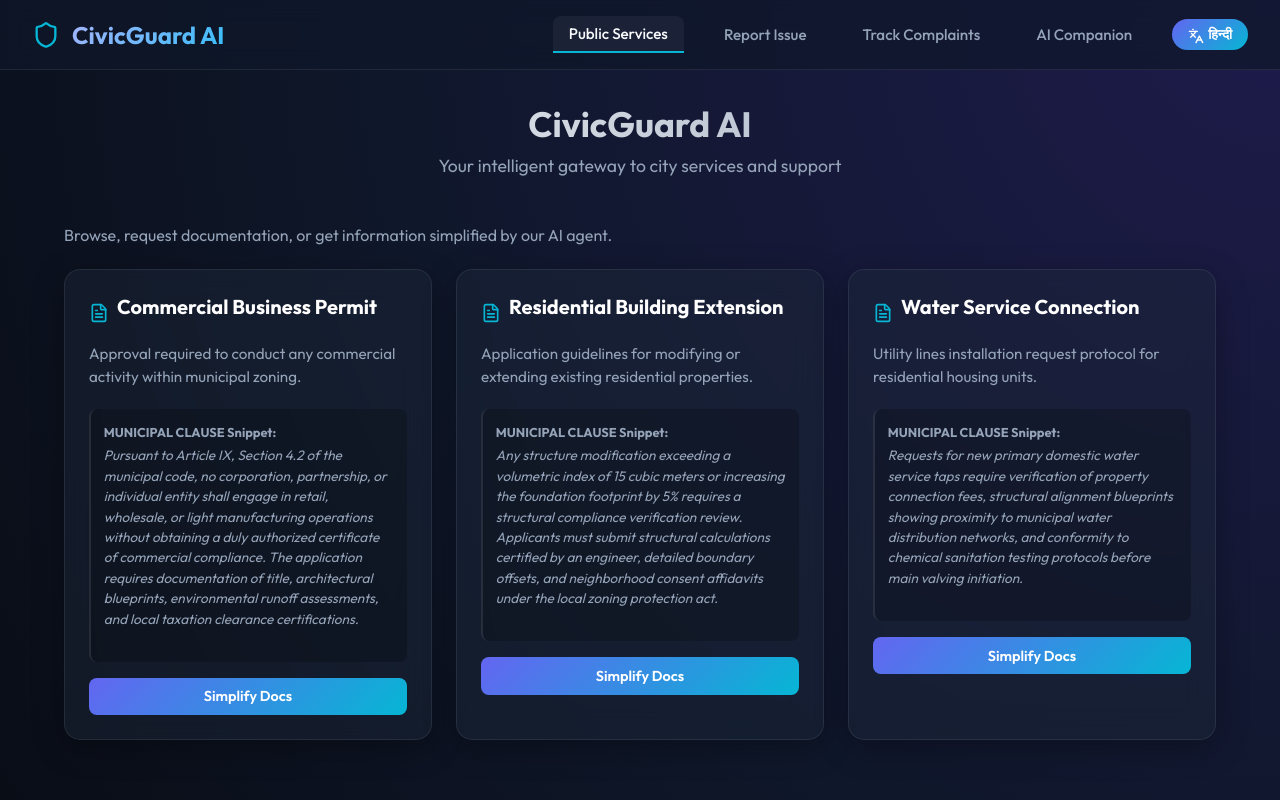
Test: Document simplification › shows loading text while simplification is in progress
Expected: the element with class "glass-card" that starts with "Commercial Business Permit" is shown, [64, 269, 432, 740]
What coordinates should you click on to do the following:
click the 3rd button with class "btn-submit"
I would click on:
 (248, 696)
Its box is [89, 678, 407, 715].
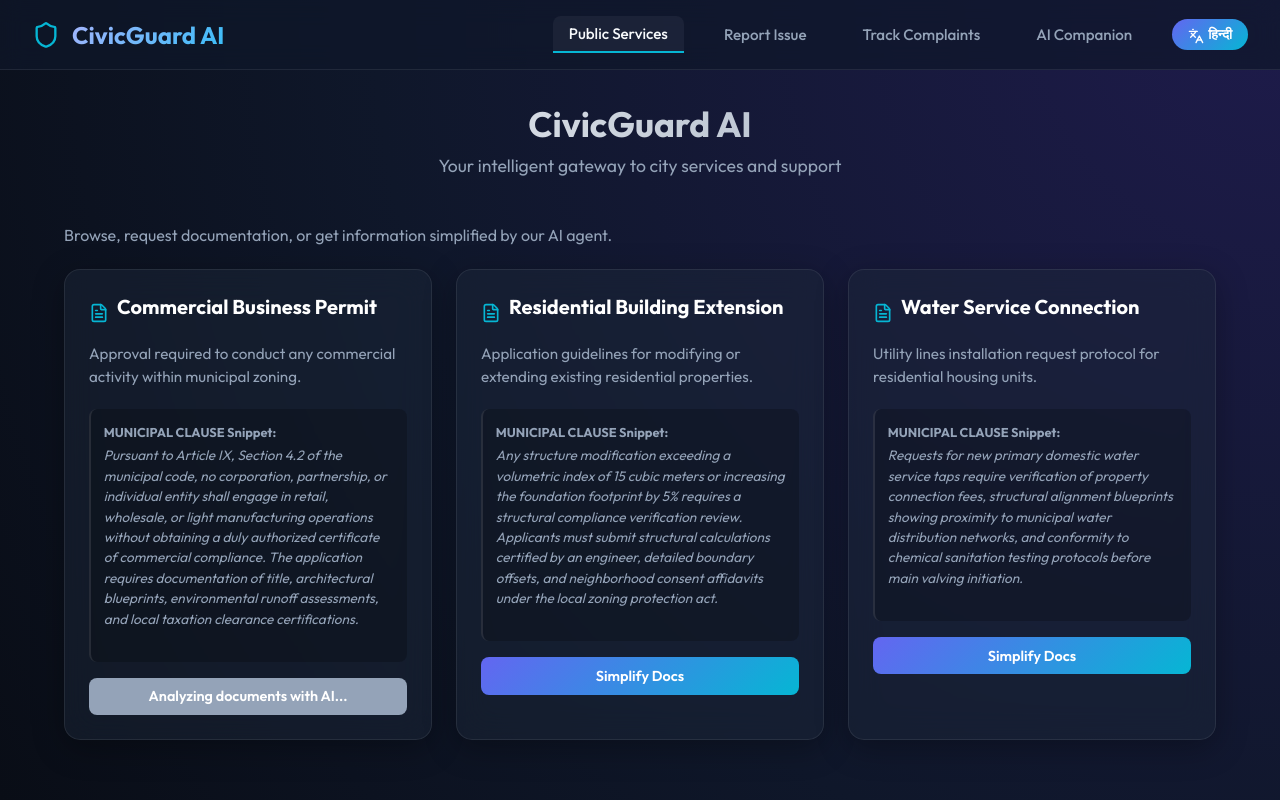
Now the button "Analyzing documents with AI..." is shown, box [89, 678, 407, 715]
